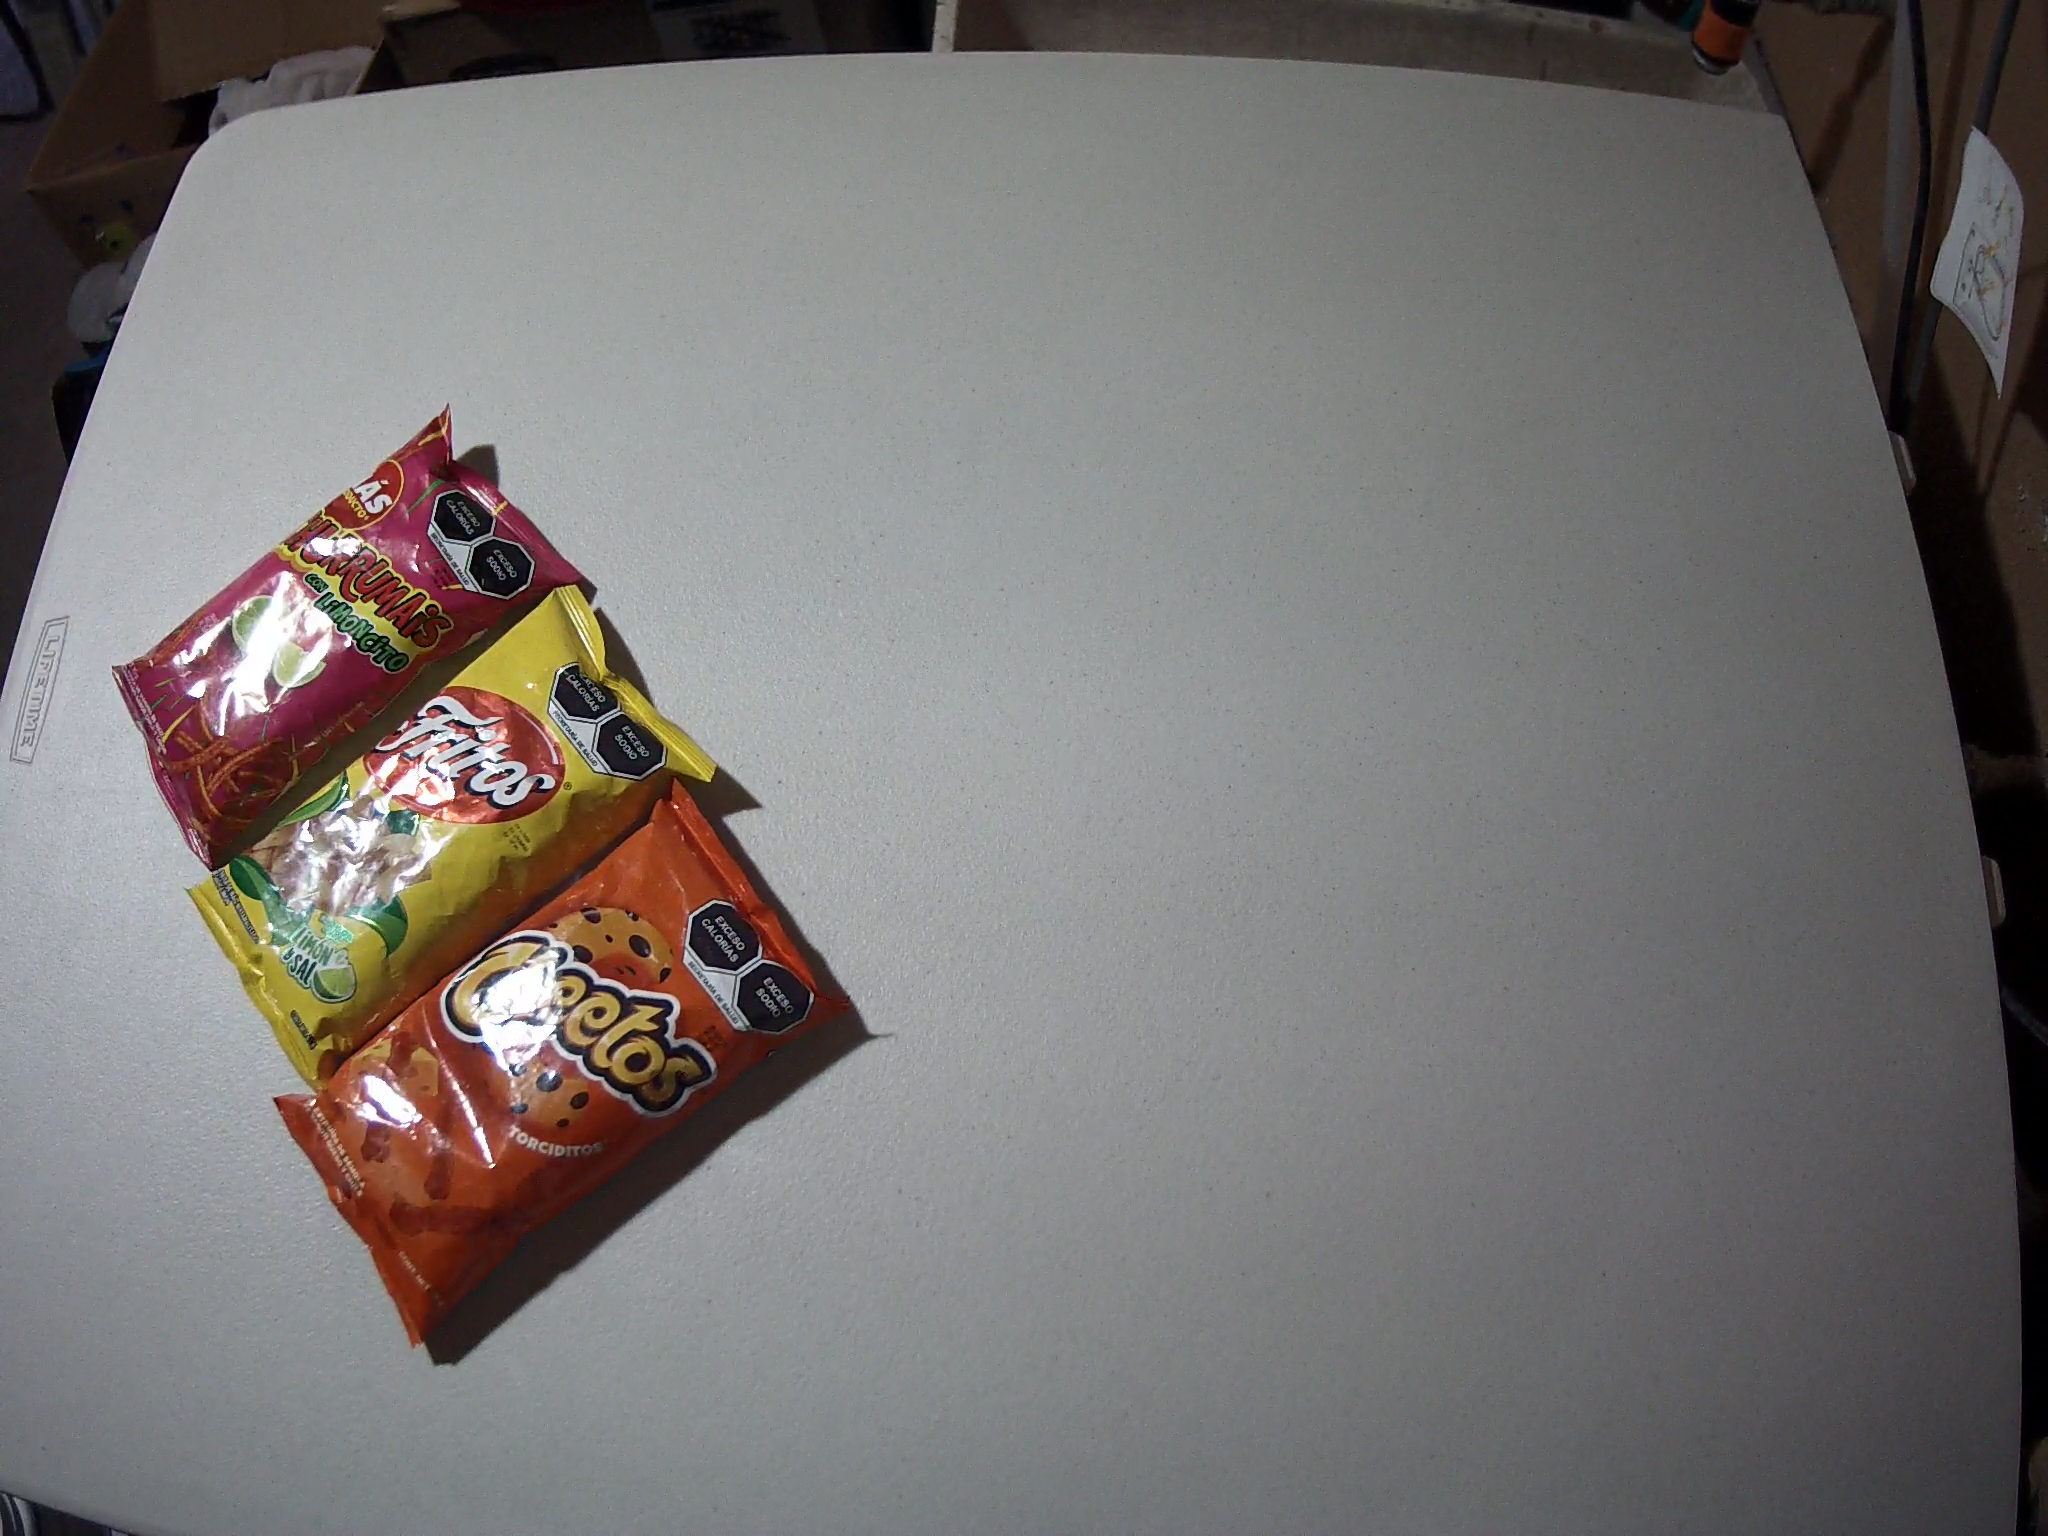CheetosTorciditos_55_F: (271, 781, 853, 1352)
Churrumais_70_F: (110, 397, 582, 873)
FritosSalLimon_65_F: (184, 587, 722, 1089)
